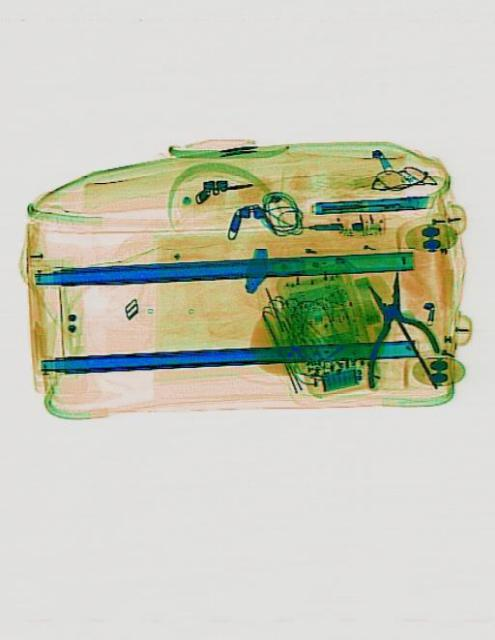Pliers: (341, 260, 441, 388)
